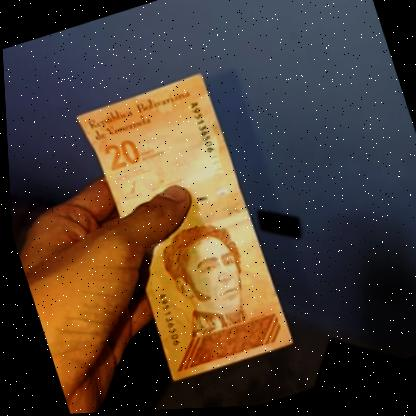twenty-front-vef: (77, 69, 292, 387)
